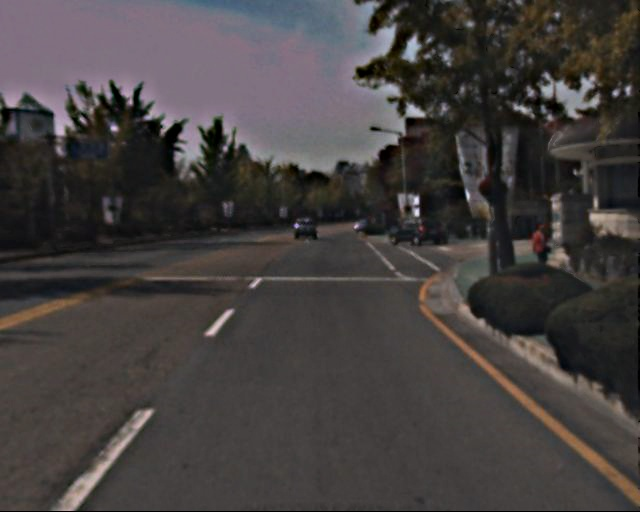person: (529, 221, 554, 282)
